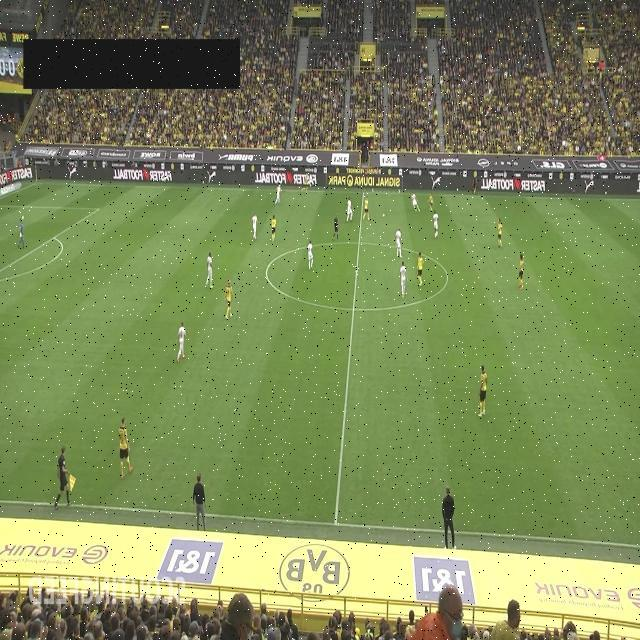Ball: (382, 212, 385, 219)
Corner: (32, 160, 41, 185)
GoalKeeper: (17, 216, 25, 248)
Referee: (54, 446, 76, 510), (332, 214, 339, 242), (472, 173, 477, 196)
TEAM 1: (118, 416, 134, 479), (478, 364, 488, 418), (224, 278, 234, 320), (416, 252, 424, 286), (301, 172, 310, 196), (518, 254, 524, 288), (362, 196, 370, 221), (497, 218, 503, 248), (271, 214, 277, 242), (427, 191, 434, 213)
TEAM 2: (176, 321, 186, 363), (206, 251, 214, 289), (399, 260, 406, 298), (250, 212, 258, 242), (306, 240, 314, 270), (272, 183, 282, 207), (410, 190, 420, 213), (432, 210, 440, 238), (346, 196, 354, 222), (396, 227, 402, 259)
